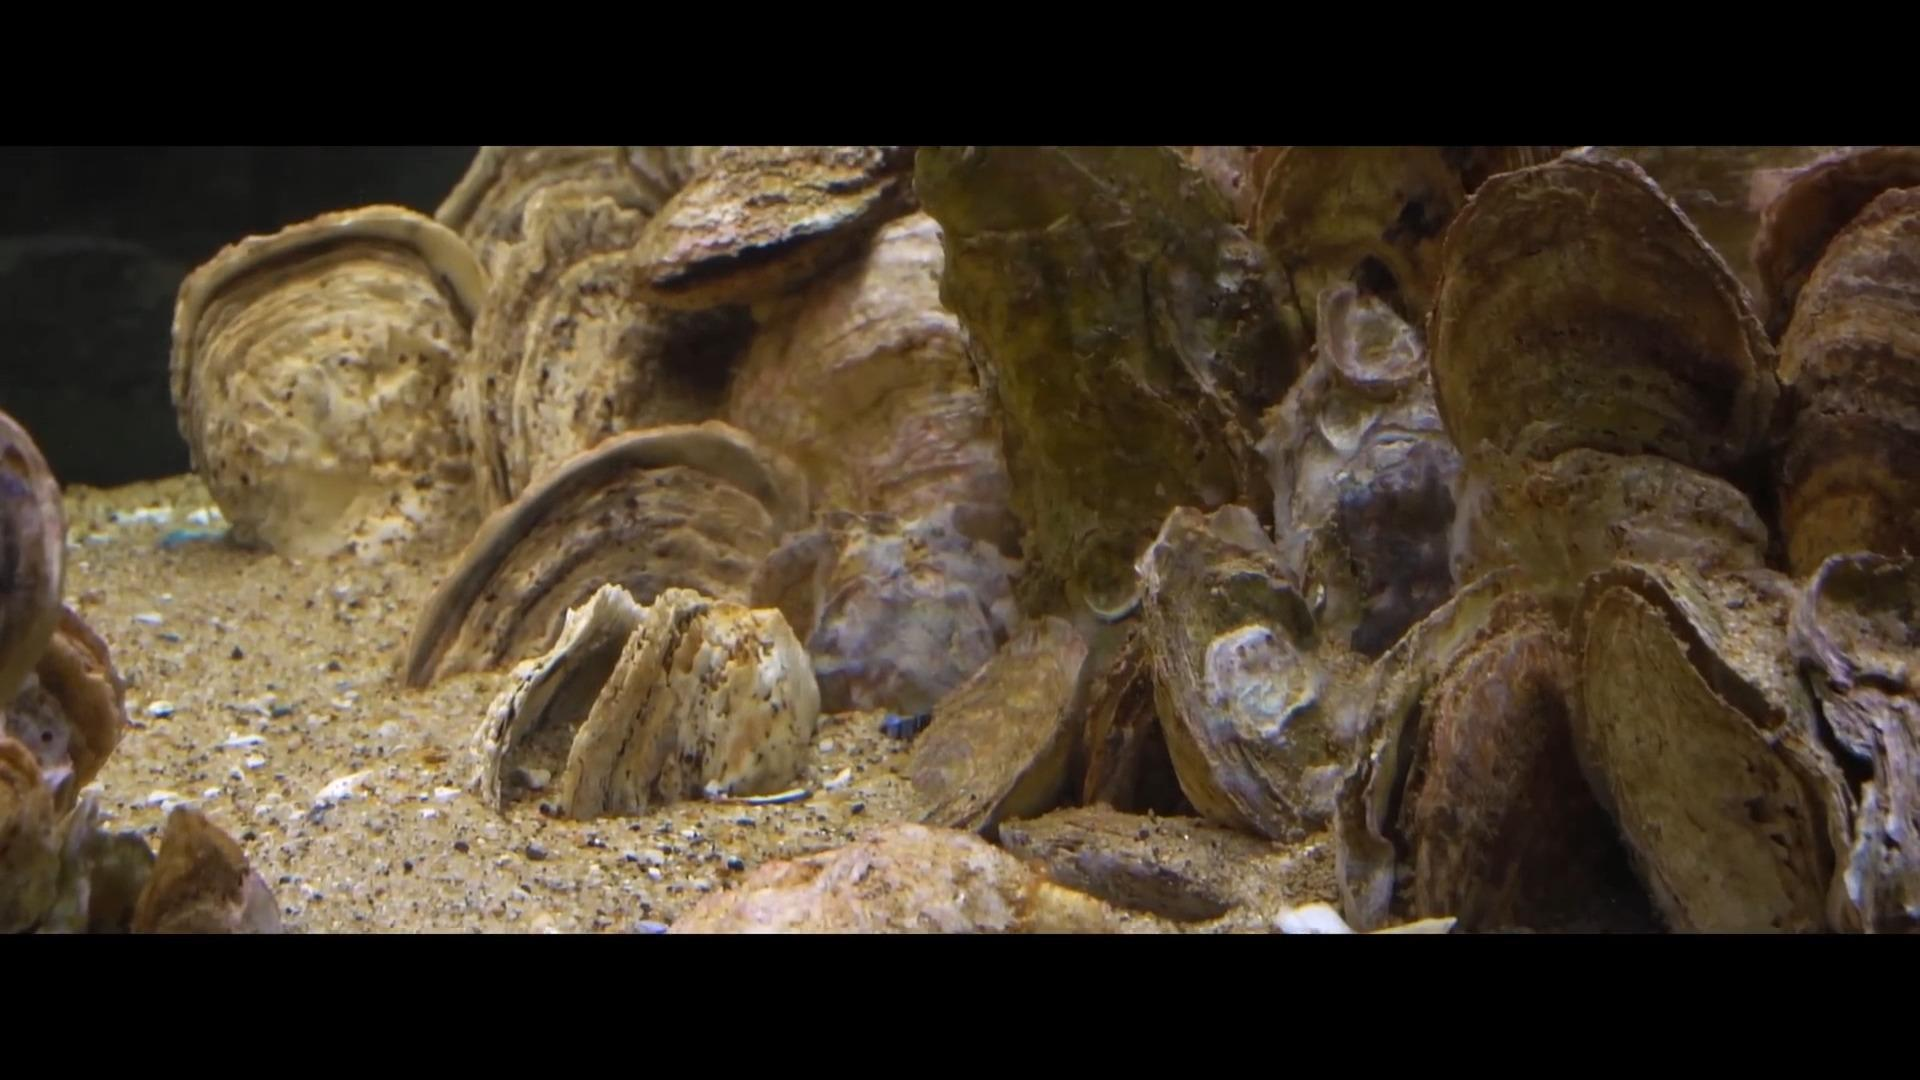Oyster: (1422, 146, 1788, 562), (171, 204, 483, 556), (407, 421, 806, 683), (1573, 559, 1846, 932), (1387, 589, 1643, 931), (467, 578, 820, 818), (1130, 497, 1361, 845), (496, 240, 740, 500), (626, 145, 918, 311), (895, 609, 1093, 840), (996, 808, 1269, 928), (1750, 146, 1920, 338), (439, 145, 663, 270), (0, 400, 69, 715), (32, 605, 132, 802)
